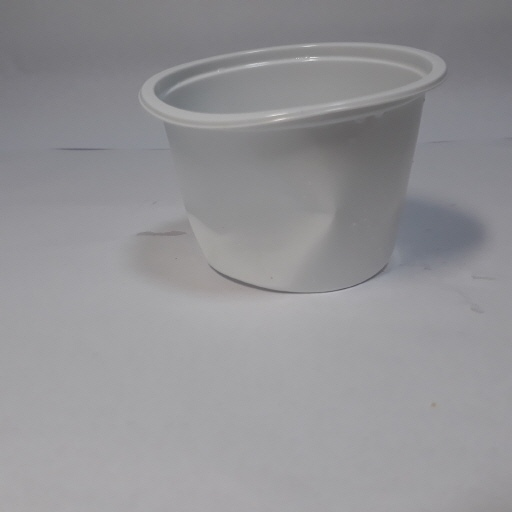Plastic_5: (137, 39, 449, 292)
